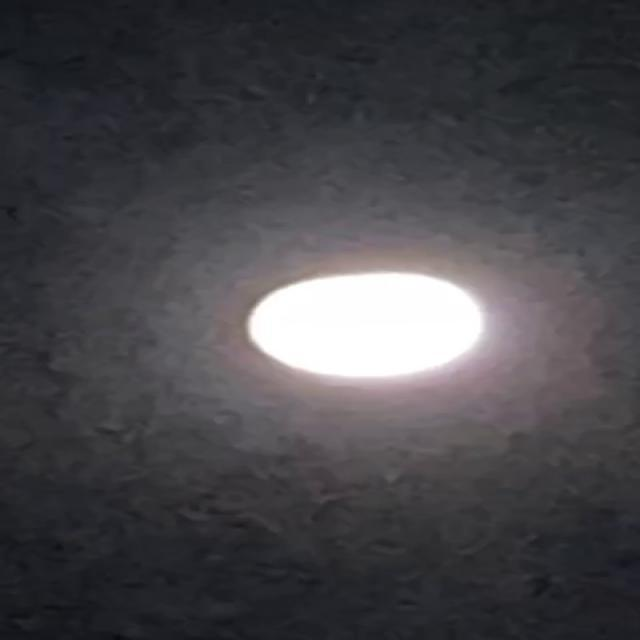moon: (208, 256, 488, 397)
